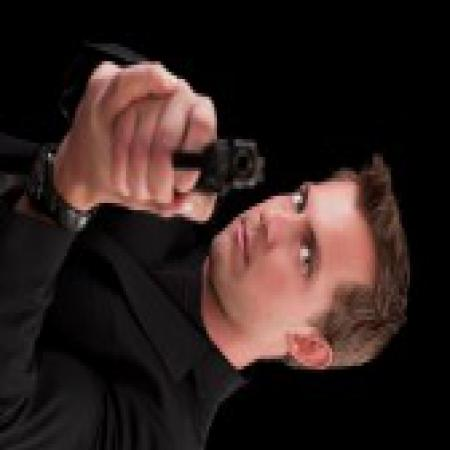Pistol: (172, 131, 270, 195)
